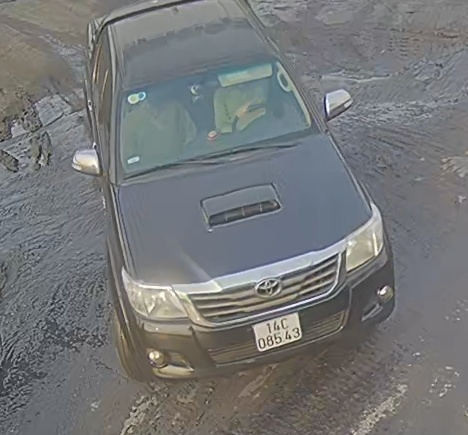vehicle plate: (247, 309, 308, 348)
